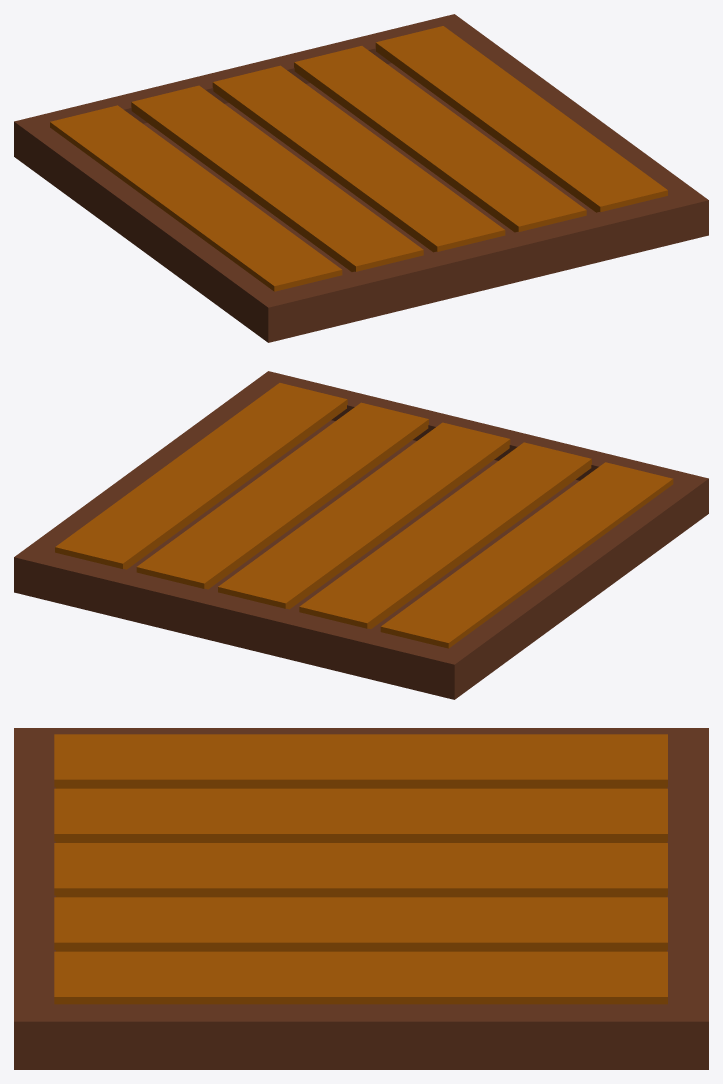
File: PlatformWood.fbx
3 views of the same model, one above another, from view 1: azimuth 30°, elevation 25°; view 2: azimuth 150°, elevation 25°; view 3: azimuth 270°, elevation 25° (orthographic). The views are drawn at different scales.
Visible parts, largest first — view 1: InnerWood.002, Plane; view 2: InnerWood.002, Plane; view 3: InnerWood.002, Plane.
Boxes of the visible parts, left/top/right/bottom form: InnerWood.002: left=50, top=26, right=667, bottom=291; Plane: left=14, top=14, right=708, bottom=342; InnerWood.002: left=55, top=383, right=673, bottom=648; Plane: left=14, top=371, right=708, bottom=699; InnerWood.002: left=54, top=734, right=667, bottom=1004; Plane: left=14, top=728, right=708, bottom=1069.
Size of the model in its own units: 200 by 17.68 by 200.
